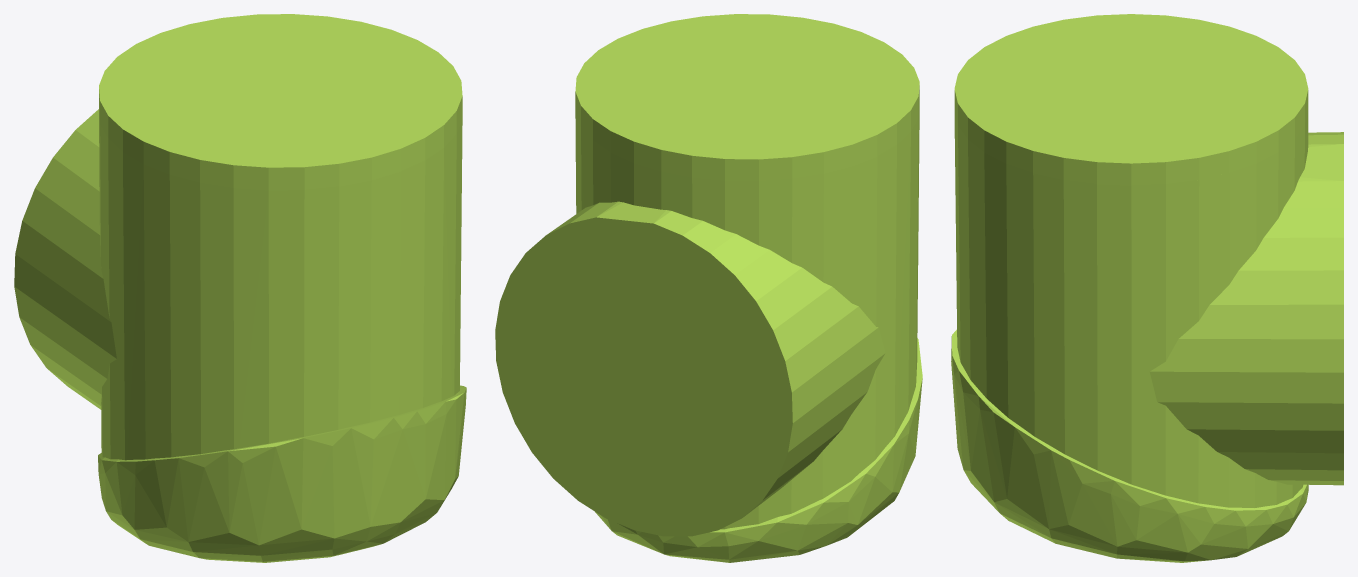
3 views of the same model, side by side, from view 1: azimuth 30°, elevation 25°; view 2: azimuth 150°, elevation 25°; view 3: azimuth 270°, elevation 25° (orthographic). The views are drawn at different scales.
Visible parts, largest first — view 1: Node_0000017FEC30D650 (×4); view 2: Node_0000017FEC30D650 (×4); view 3: Node_0000017FEC30D650 (×4).
Boxes of the visible parts, left/top/right/bottom form: Node_0000017FEC30D650 (×4): left=14, top=14, right=466, bottom=562; Node_0000017FEC30D650 (×4): left=495, top=14, right=922, bottom=562; Node_0000017FEC30D650 (×4): left=951, top=14, right=1343, bottom=562.
Size of the model in its own units: 0.0911 by 0.1188 by 0.0998.
